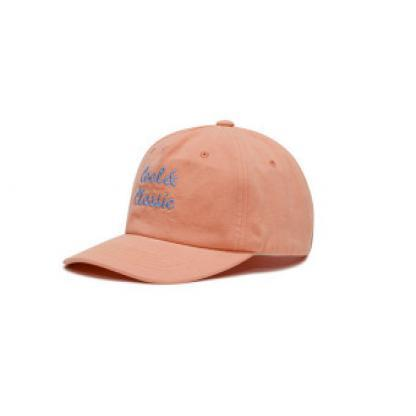cap: (54, 112, 325, 294)
